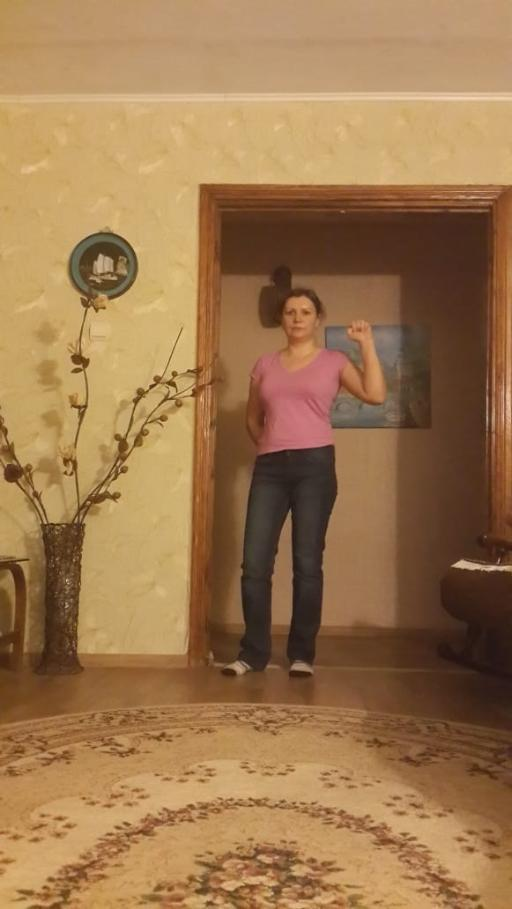fist: (344, 317, 373, 344)
